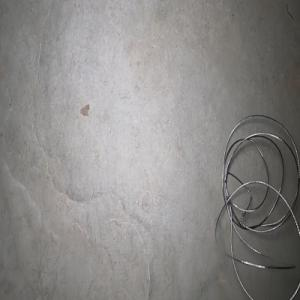Wire: (214, 114, 300, 300)
